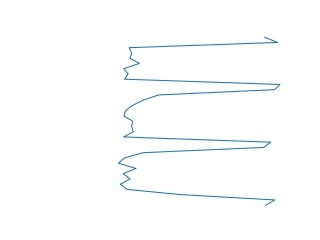majorRiverChannelBar: (114, 34, 284, 208)
